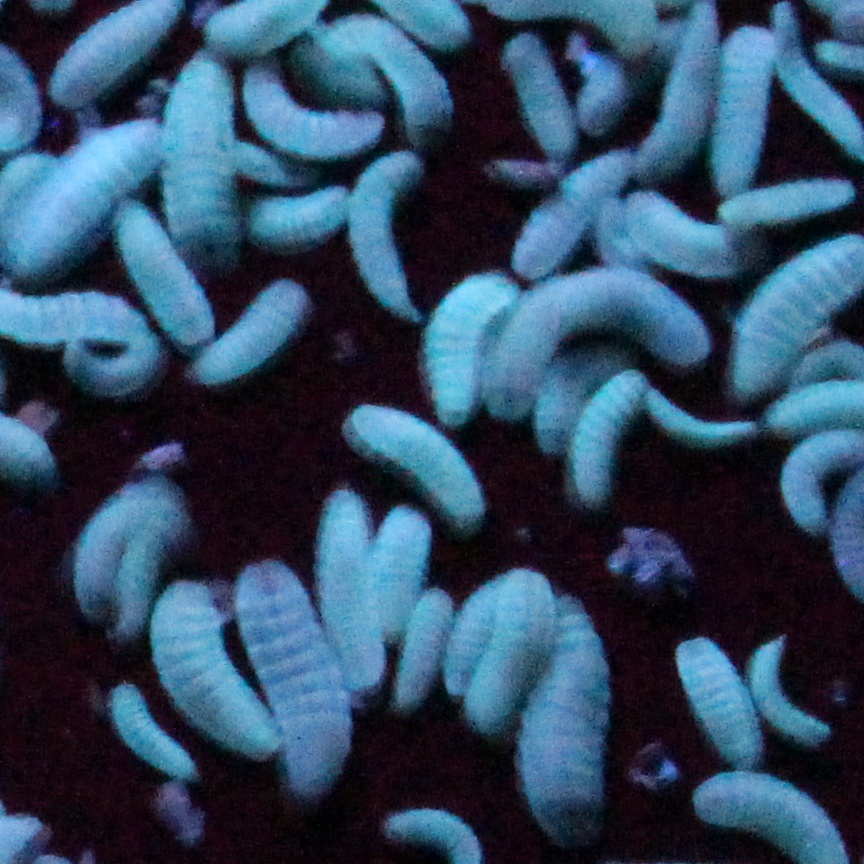larve: (234, 546, 356, 799), (516, 581, 620, 846), (9, 117, 174, 266), (149, 566, 276, 757), (156, 34, 253, 266), (491, 263, 616, 408), (349, 394, 487, 524), (105, 197, 220, 348), (318, 12, 456, 137), (514, 144, 631, 270), (465, 563, 553, 730), (318, 481, 383, 701), (191, 279, 322, 377), (733, 621, 831, 748), (351, 143, 420, 319), (243, 63, 371, 157), (573, 268, 702, 359), (676, 635, 765, 764), (563, 370, 642, 510), (625, 192, 751, 277), (96, 683, 198, 786), (431, 279, 509, 410), (367, 504, 438, 643), (711, 26, 771, 183), (498, 34, 574, 154), (705, 177, 864, 232), (236, 183, 351, 252), (113, 510, 163, 652), (634, 390, 751, 450), (538, 341, 605, 444), (71, 499, 129, 608), (394, 590, 445, 710), (451, 577, 505, 684), (67, 335, 165, 390)
